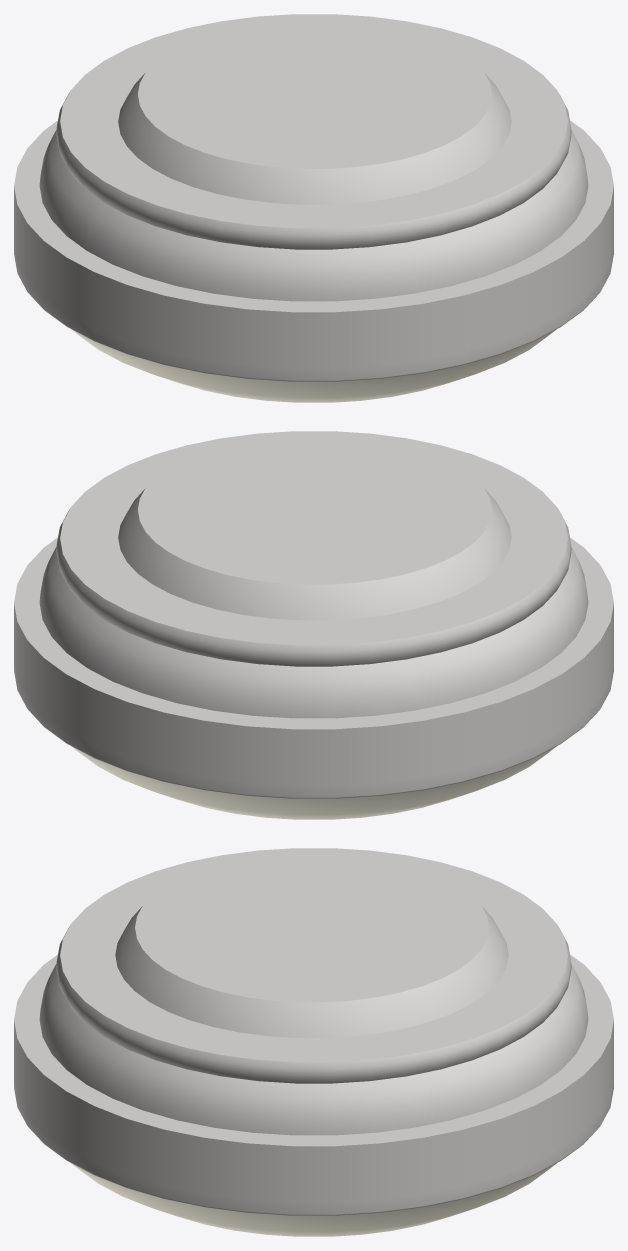
Rendered from Light.glb.
The picture shows the model from 3 angles, top to bottom: view 1: azimuth 30°, elevation 25°; view 2: azimuth 150°, elevation 25°; view 3: azimuth 270°, elevation 25°; orthographic projection.
Parts seen in each view (by area): view 1: Mesh2 Group2 SATIN_7_H1_SN1 Model, Mesh1 Group1 SATIN_7_H1_SN1 Model; view 2: Mesh2 Group2 SATIN_7_H1_SN1 Model, Mesh1 Group1 SATIN_7_H1_SN1 Model; view 3: Mesh2 Group2 SATIN_7_H1_SN1 Model, Mesh1 Group1 SATIN_7_H1_SN1 Model.
Part boxes in pixels (x1,y1,x2,y2): Mesh2 Group2 SATIN_7_H1_SN1 Model: (14,14,613,381); Mesh1 Group1 SATIN_7_H1_SN1 Model: (71,329,556,402); Mesh2 Group2 SATIN_7_H1_SN1 Model: (14,431,613,798); Mesh1 Group1 SATIN_7_H1_SN1 Model: (71,746,556,819); Mesh2 Group2 SATIN_7_H1_SN1 Model: (14,848,613,1215); Mesh1 Group1 SATIN_7_H1_SN1 Model: (71,1163,556,1236).
Bounding box in the file's own units: 0.4037 × 0.1866 × 0.4048.
